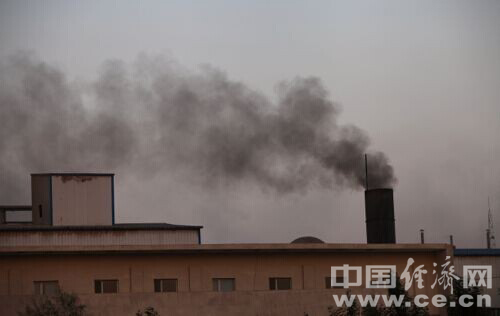dust: (200, 75, 393, 197)
